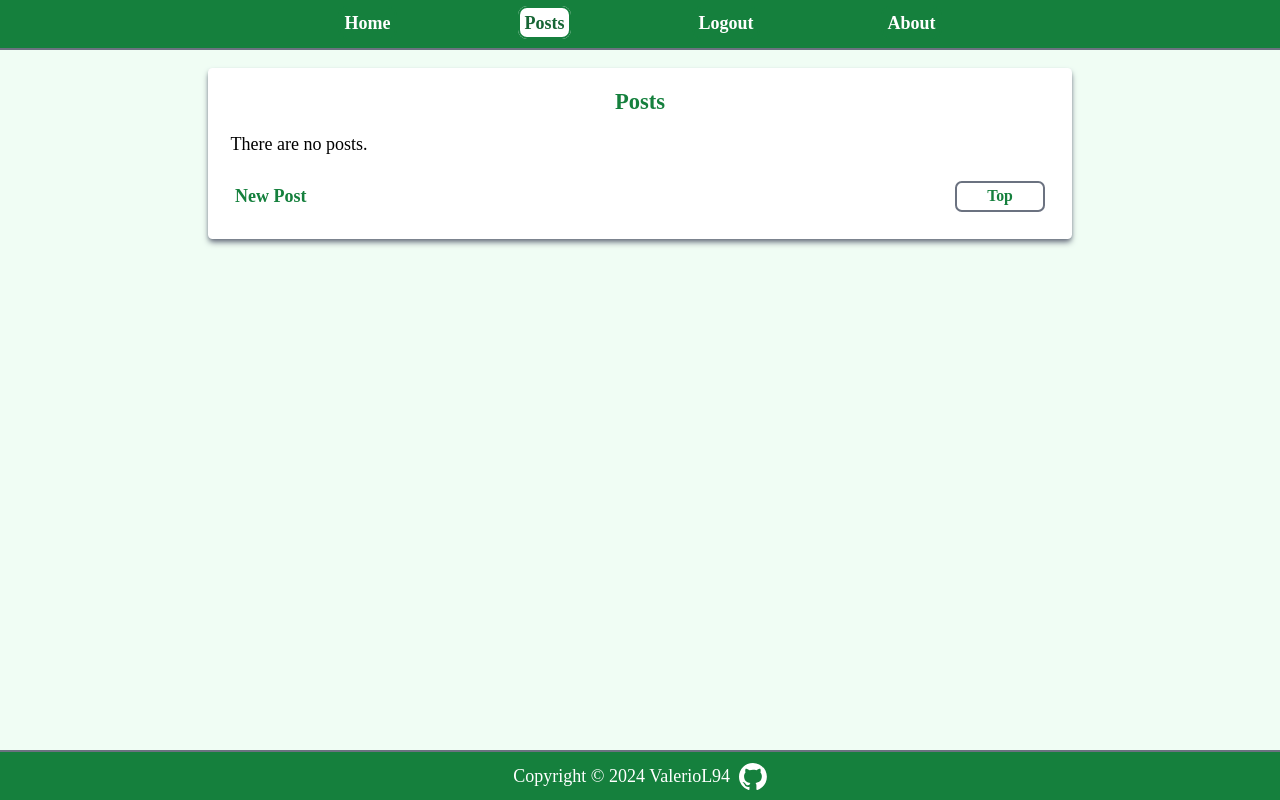
Test: navbar component tests › auth rendering/navigating › logout link rendering/navigating
Click the link "Logout" at (726, 22), box [692,6,760,38]
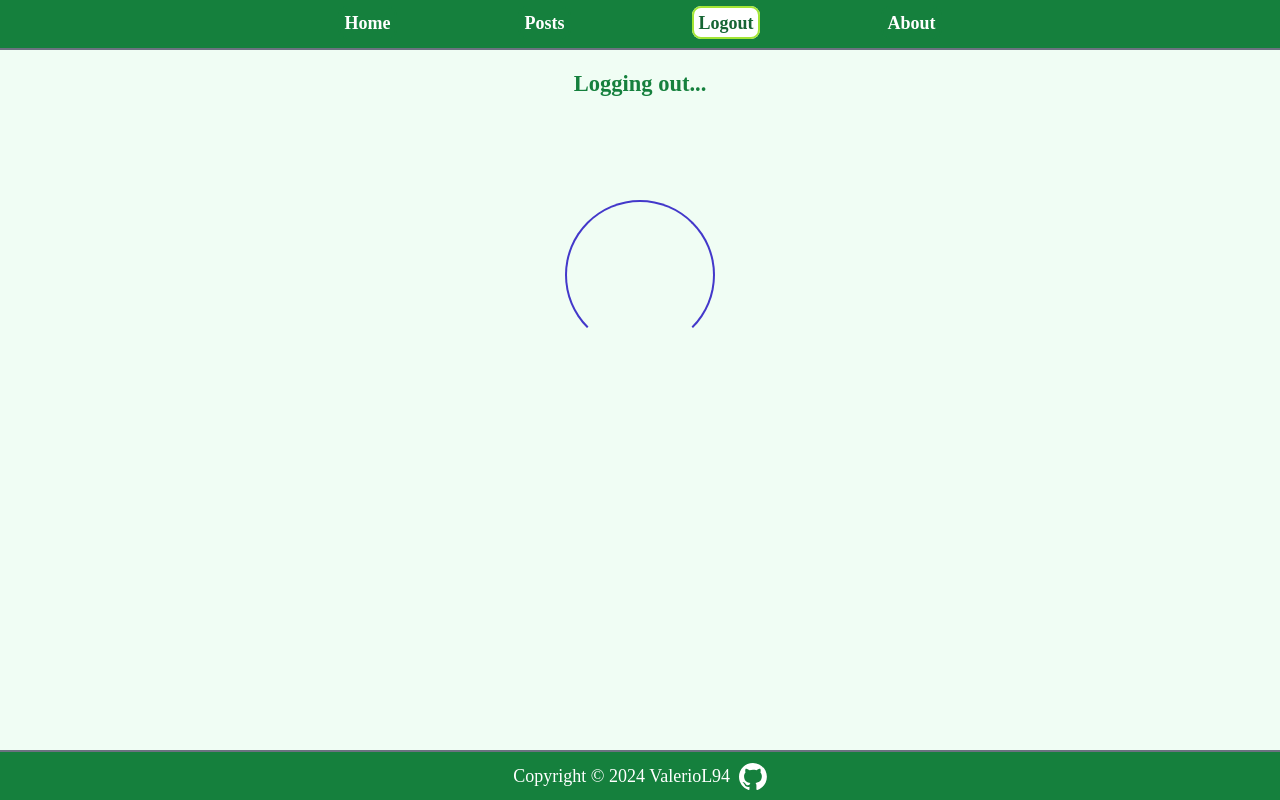
Check: the heading "Logging out..." is shown, box [574,68,706,100]
